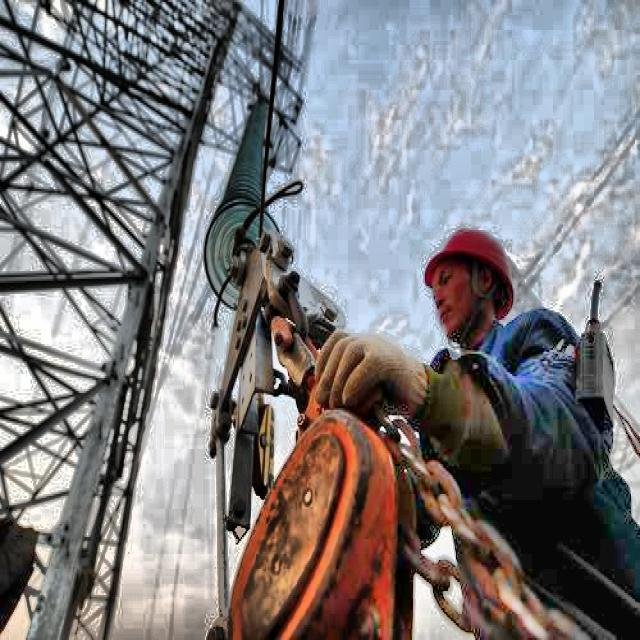helmet: (420, 214, 525, 346)
